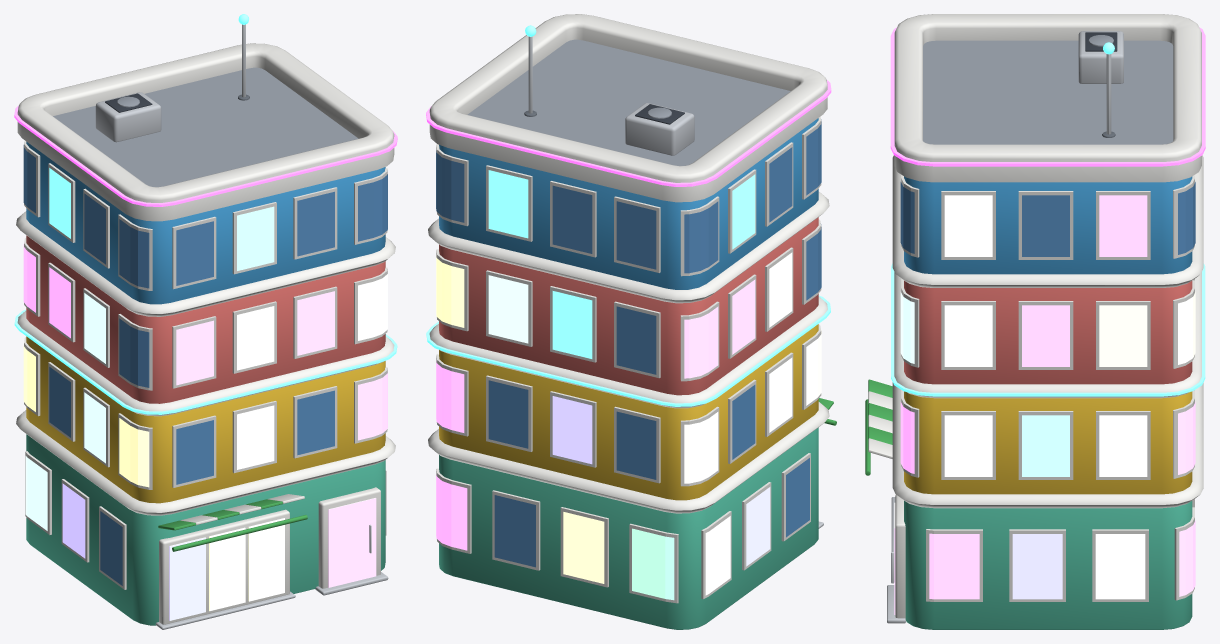
Rendered from predio_caixa_listras_cores.glb.
3 renders of one model, left to right at view 1: azimuth 30°, elevation 25°; view 2: azimuth 150°, elevation 25°; view 3: azimuth 270°, elevation 25°, orthographic. The views are drawn at different scales.
Visible parts, largest first — view 1: predio_caixa_listras_cores; view 2: predio_caixa_listras_cores; view 3: predio_caixa_listras_cores.
Part boxes in pixels (<box>): predio_caixa_listras_cores: <box>14,14,397,629</box>; predio_caixa_listras_cores: <box>426,14,836,629</box>; predio_caixa_listras_cores: <box>865,14,1205,629</box>.
Bounding box in the file's own units: 9.1 × 16.2 × 8.97.
Materials: 10 (1 with a texture image).
